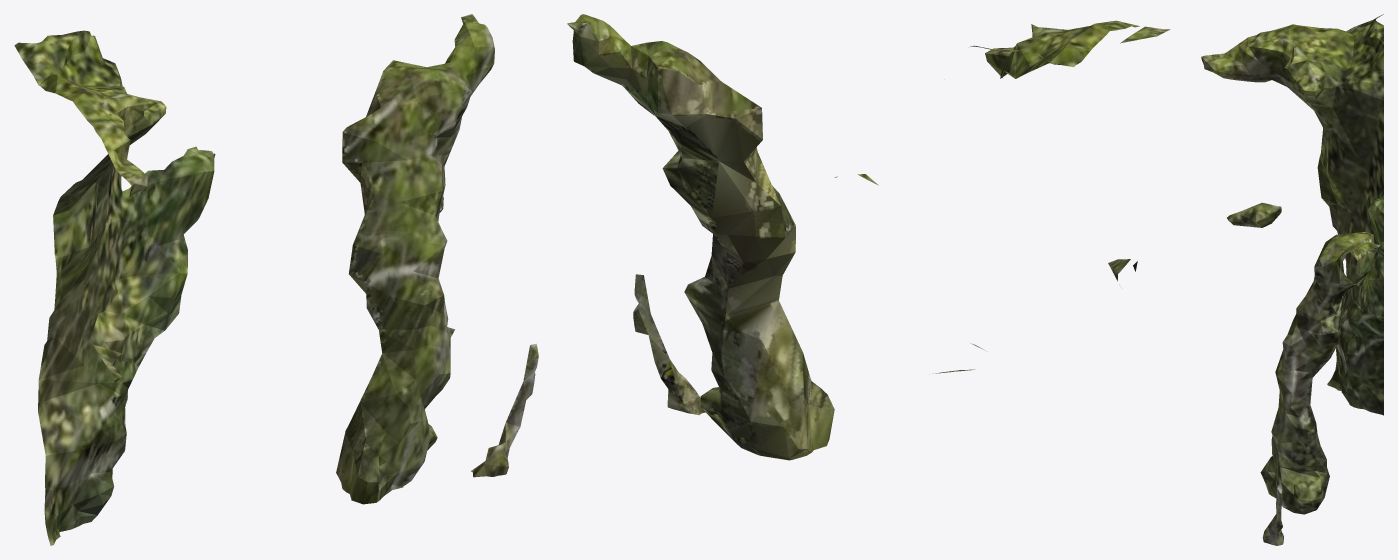
The picture shows the model from 3 angles, left to right: view 1: azimuth 30°, elevation 25°; view 2: azimuth 150°, elevation 25°; view 3: azimuth 270°, elevation 25°; orthographic projection. The views are drawn at different scales.
Bounding box in the file's own units: 2.95 × 2.95 × 1.32.
Materials: 2 (2 with a texture image).
